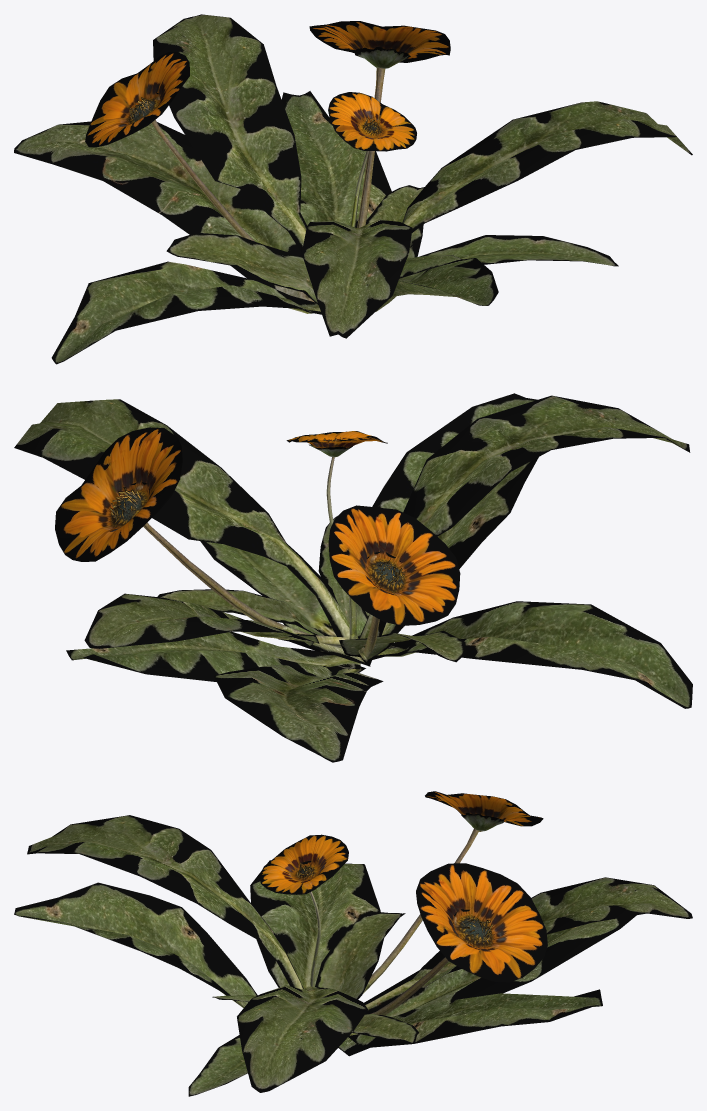
File: flower_gazania_02.glb
3 views of the same model, one above another, from view 1: azimuth 30°, elevation 25°; view 2: azimuth 150°, elevation 25°; view 3: azimuth 270°, elevation 25° (orthographic). The views are drawn at different scales.
Parts seen in each view (by area): view 1: flower_gazania; view 2: flower_gazania; view 3: flower_gazania.
Boxes of the visible parts, x1,y1,x2,y2 form: flower_gazania: (14,14,692,364); flower_gazania: (14,393,692,762); flower_gazania: (14,791,692,1096).
Bounding box in the file's own units: 0.3123 × 0.1099 × 0.3069.
1 material, 1 textured.
